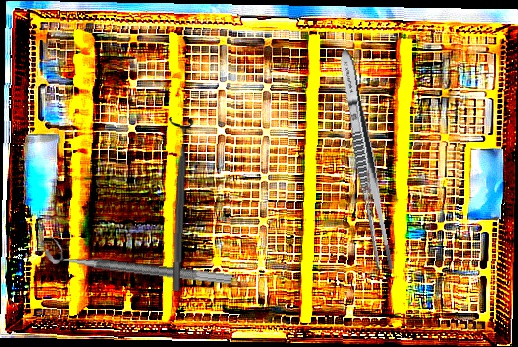Dressing Forceps: (333, 48, 398, 273)
Fixation Ring: (44, 235, 234, 286), (162, 117, 196, 292)
